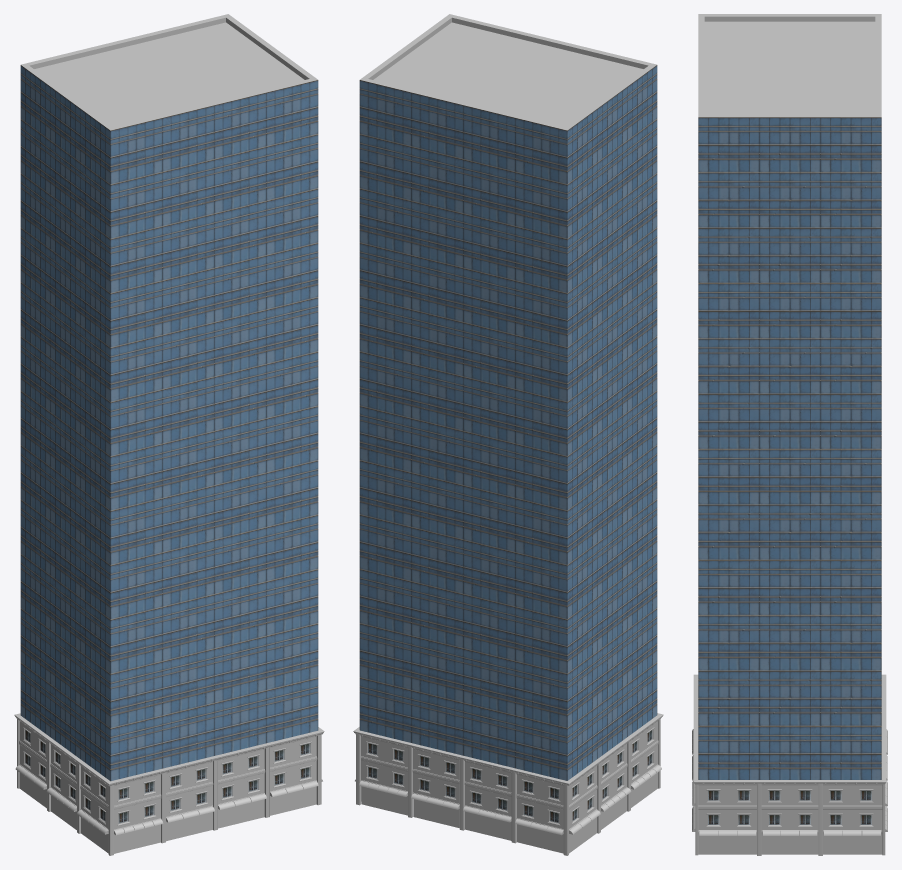
File: High RIse Building 44.fbx
The picture shows the model from 3 angles, left to right: view 1: azimuth 30°, elevation 25°; view 2: azimuth 150°, elevation 25°; view 3: azimuth 270°, elevation 25°; orthographic projection.
Parts seen in each view (by area): view 1: Top, Base, Part_6, Part_8, Part_3, Part_11, Part_4, Part_9, Part_2, Part_10, Part_5, Part_7 (+1 smaller); view 2: Top, Base, Part_2, Part_5, Part_8, Part_9, Part_11, Part_7, Part_3, Part_6, Part_10, Part_4 (+1 smaller); view 3: Top, Base, Part_2, Part_3, Part_4, Part_5, Part_6, Part_7, Part_8, Part_9, Part_10, Part_11 (+1 smaller).
Boxes of the visible parts, left/top/right/bottom form: Top: left=20, top=14, right=318, bottom=184; Base: left=14, top=713, right=324, bottom=855; Part_6: left=20, top=391, right=318, bottom=510; Part_8: left=20, top=282, right=318, bottom=402; Part_3: left=20, top=554, right=318, bottom=674; Part_11: left=20, top=119, right=318, bottom=239; Part_4: left=20, top=500, right=318, bottom=619; Part_9: left=20, top=228, right=318, bottom=347; Part_2: left=20, top=609, right=318, bottom=728; Part_10: left=20, top=174, right=318, bottom=293; Part_5: left=20, top=446, right=318, bottom=565; Part_7: left=20, top=337, right=318, bottom=456; Top: left=359, top=14, right=657, bottom=184; Base: left=353, top=713, right=663, bottom=855; Part_2: left=359, top=608, right=657, bottom=728; Part_5: left=359, top=445, right=657, bottom=565; Part_8: left=359, top=282, right=657, bottom=402; Part_9: left=359, top=228, right=657, bottom=347; Part_11: left=359, top=119, right=657, bottom=239; Part_7: left=359, top=337, right=657, bottom=456; Part_3: left=359, top=554, right=657, bottom=673; Part_6: left=359, top=391, right=657, bottom=510; Part_10: left=359, top=174, right=657, bottom=293; Part_4: left=359, top=500, right=657, bottom=619; Top: left=698, top=14, right=881, bottom=172; Base: left=692, top=674, right=887, bottom=855; Part_2: left=698, top=671, right=881, bottom=726; Part_3: left=698, top=615, right=881, bottom=670; Part_4: left=698, top=560, right=881, bottom=615; Part_5: left=698, top=505, right=881, bottom=560; Part_6: left=698, top=449, right=881, bottom=504; Part_7: left=698, top=394, right=881, bottom=449; Part_8: left=698, top=338, right=881, bottom=393; Part_9: left=698, top=283, right=881, bottom=338; Part_10: left=698, top=228, right=881, bottom=283; Part_11: left=698, top=172, right=881, bottom=227.
Size of the model in its own units: 3363 by 10650 by 2565.
